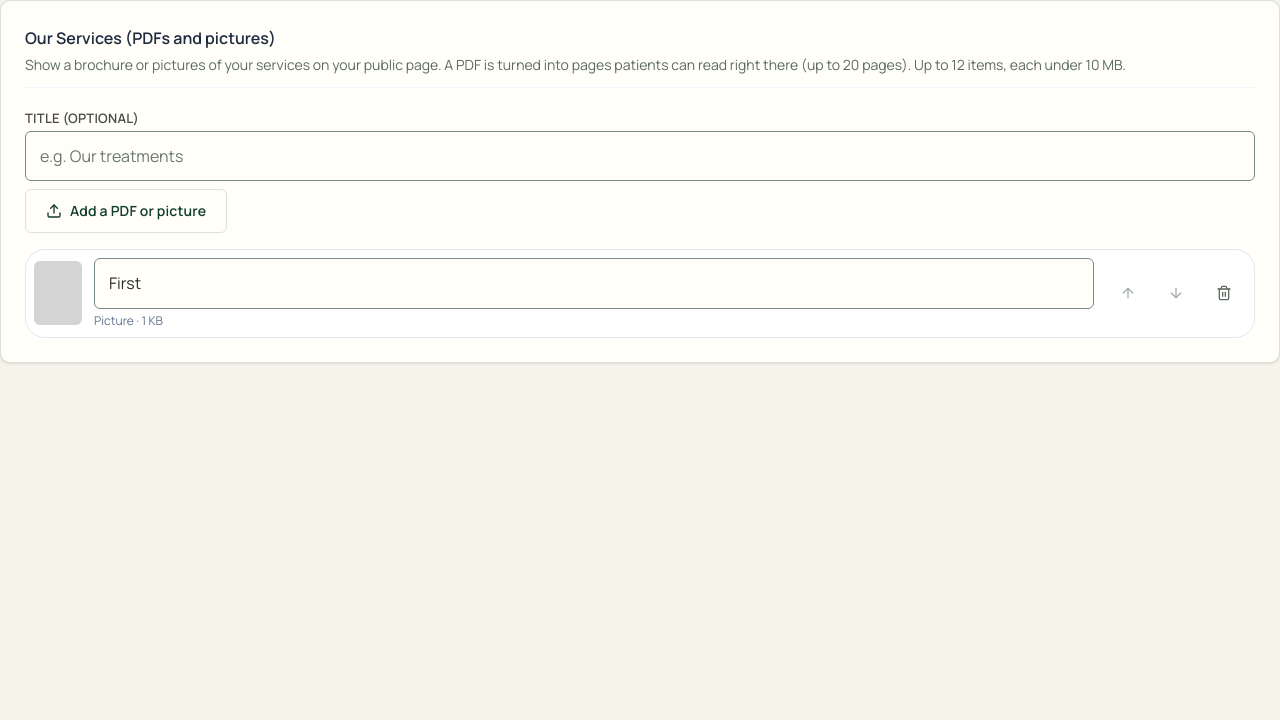
Test: the Settings section › asks before removing, and removes on yes
This screenshot has width=1280, height=720.
Click the button named "Remove First" at (1224, 293), box 1202,271 -> 1246,315
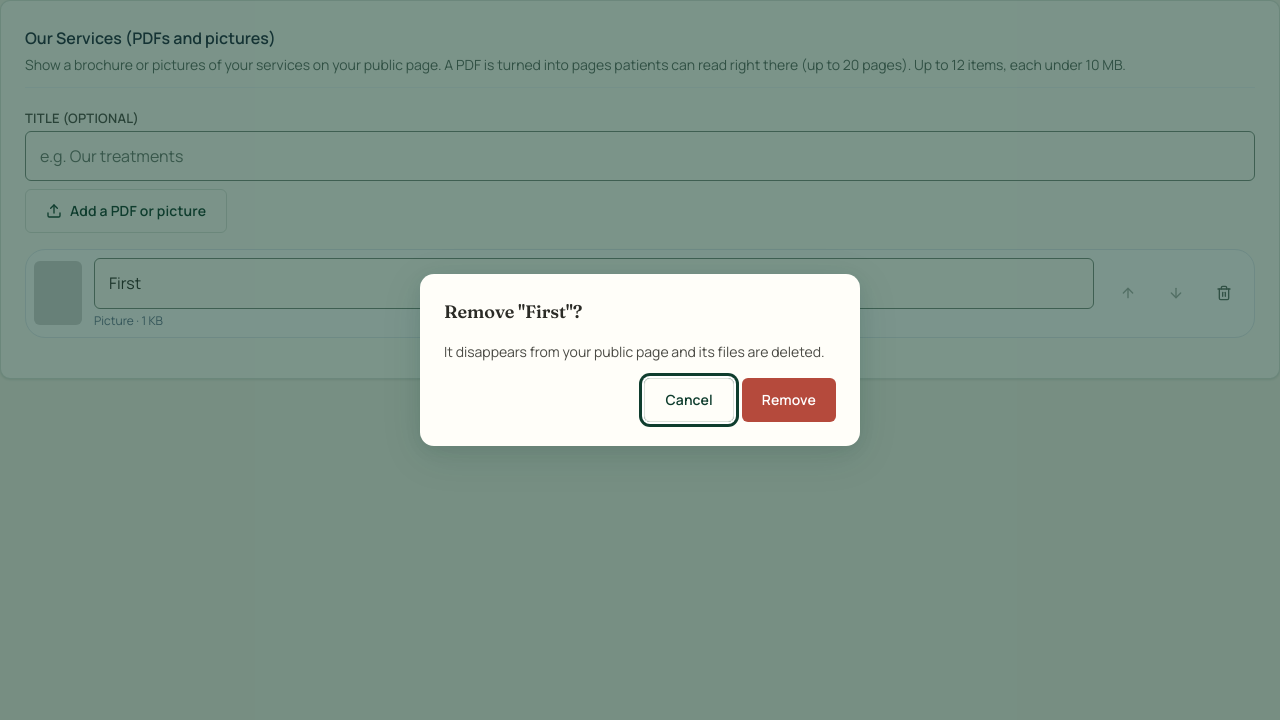
Click the button "Remove" at (789, 400), box 742,378 -> 836,422
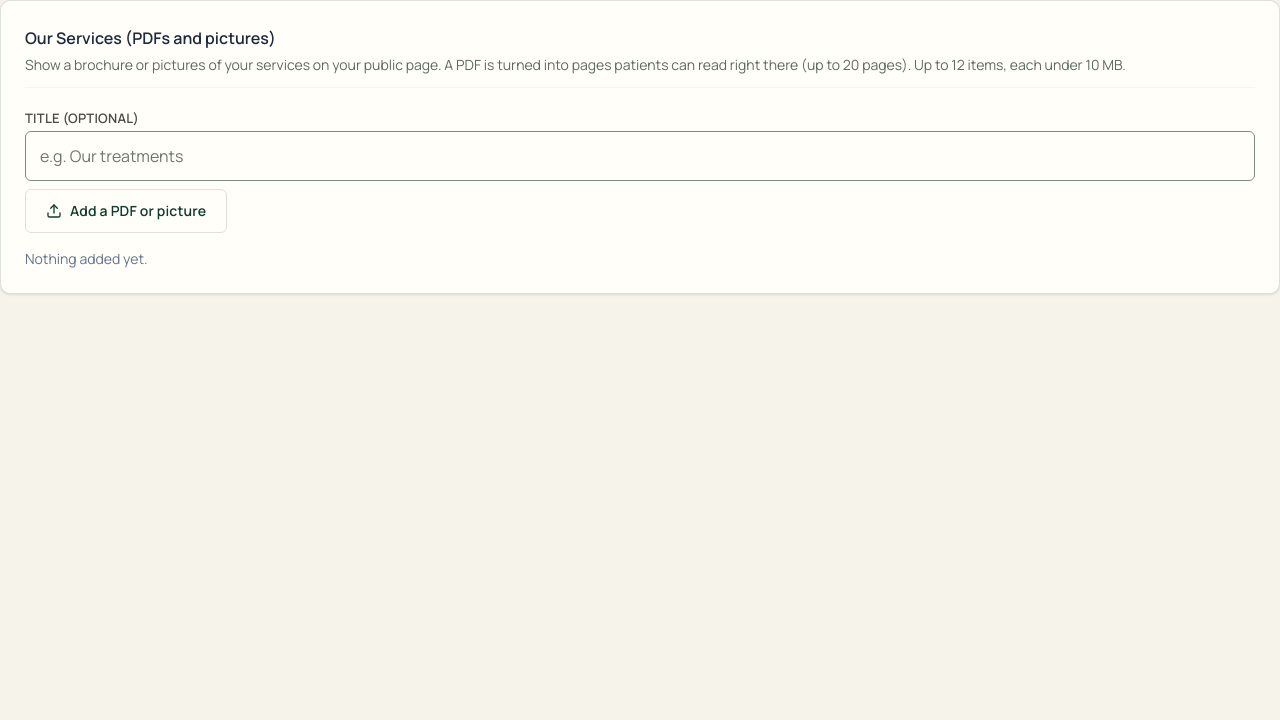
Expected: the text "Nothing added yet." is shown, 25,249 -> 148,268
